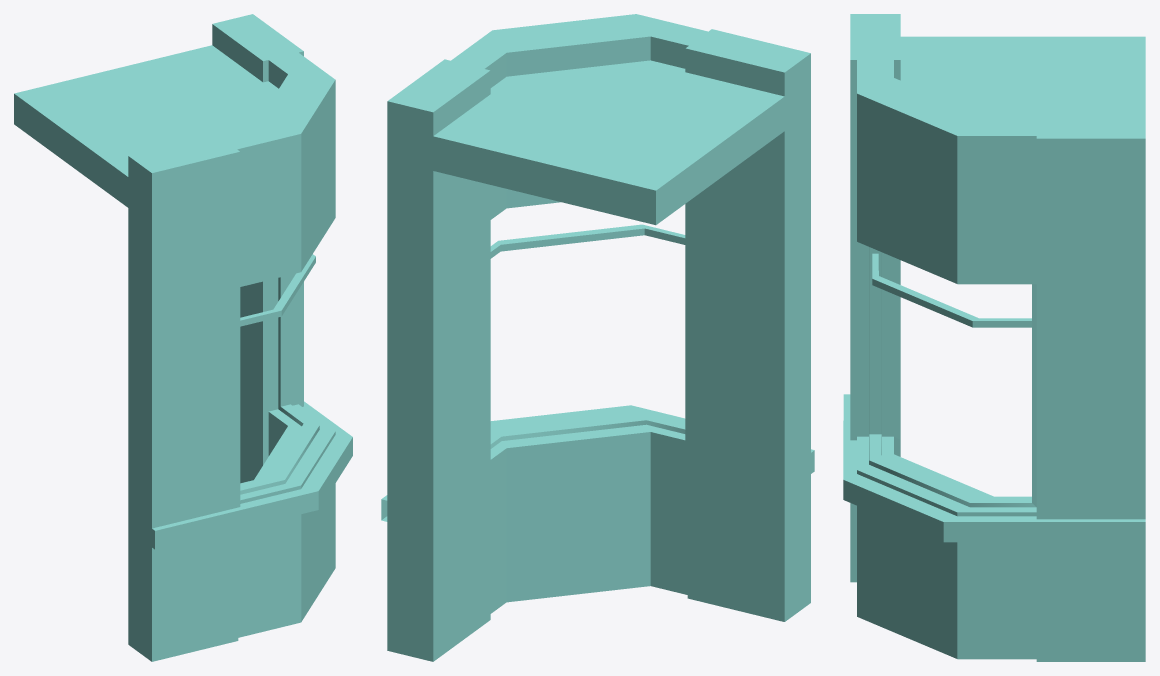
Rendered from DinerWallCornerWindow_Collision.fbx.
3 renders of one model, left to right at view 1: azimuth 30°, elevation 25°; view 2: azimuth 150°, elevation 25°; view 3: azimuth 270°, elevation 25°, orthographic. The views are drawn at different scales.
Parts seen in each view (by area): view 1: DinerWallCornerWindow_Collision; view 2: DinerWallCornerWindow_Collision; view 3: DinerWallCornerWindow_Collision.
Part boxes in pixels (box(x1,y1,x2,y2)): DinerWallCornerWindow_Collision: box(14, 14, 352, 661); DinerWallCornerWindow_Collision: box(381, 14, 814, 661); DinerWallCornerWindow_Collision: box(843, 14, 1145, 661).
Size of the model in its own units: 1.84 by 3.52 by 1.84.
